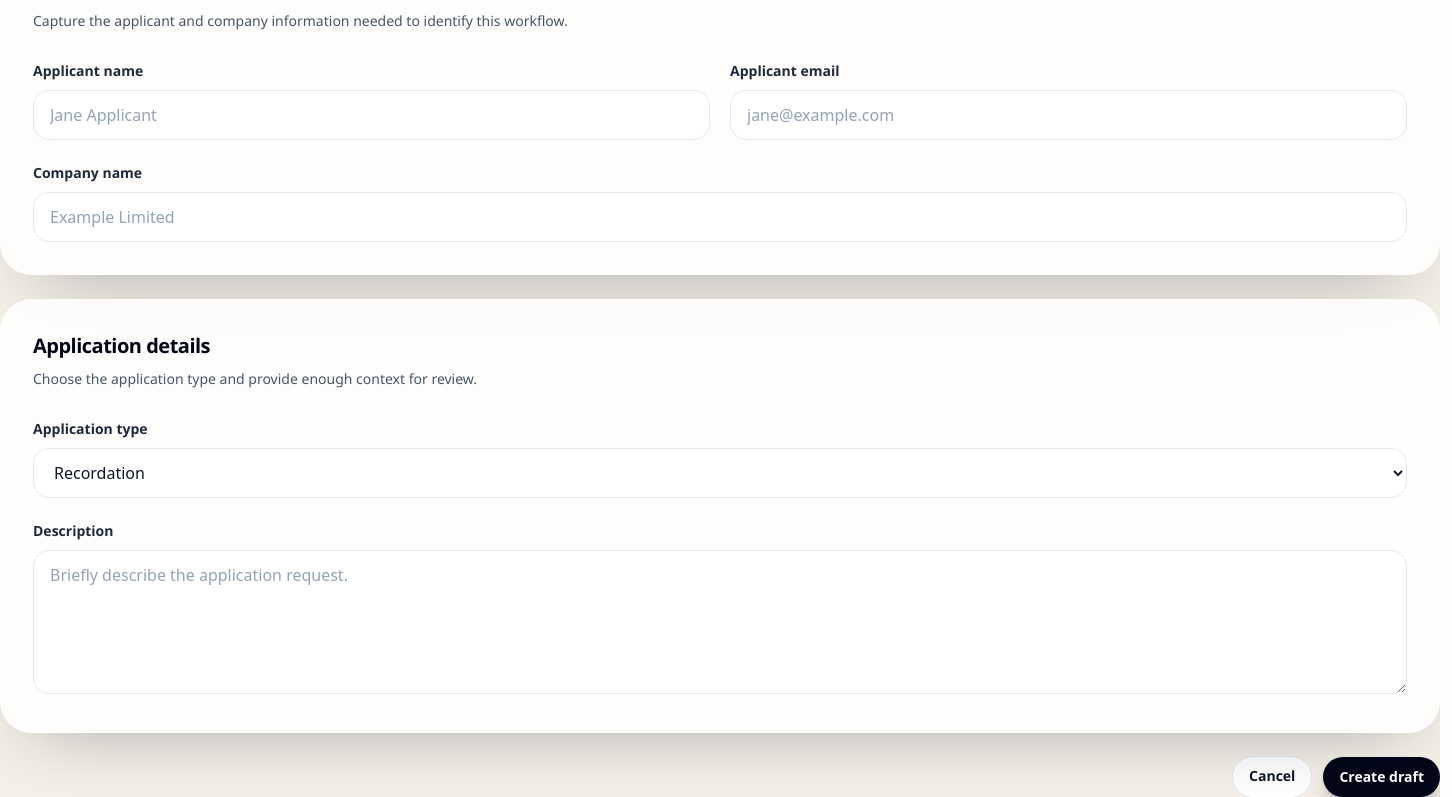
Test: ApplicationForm › shows validation messages for required create and edit fields
(page scrolled)
Click the button "Create draft".
click(1382, 777)  # box x1=1323 y1=757 x2=1440 y2=796
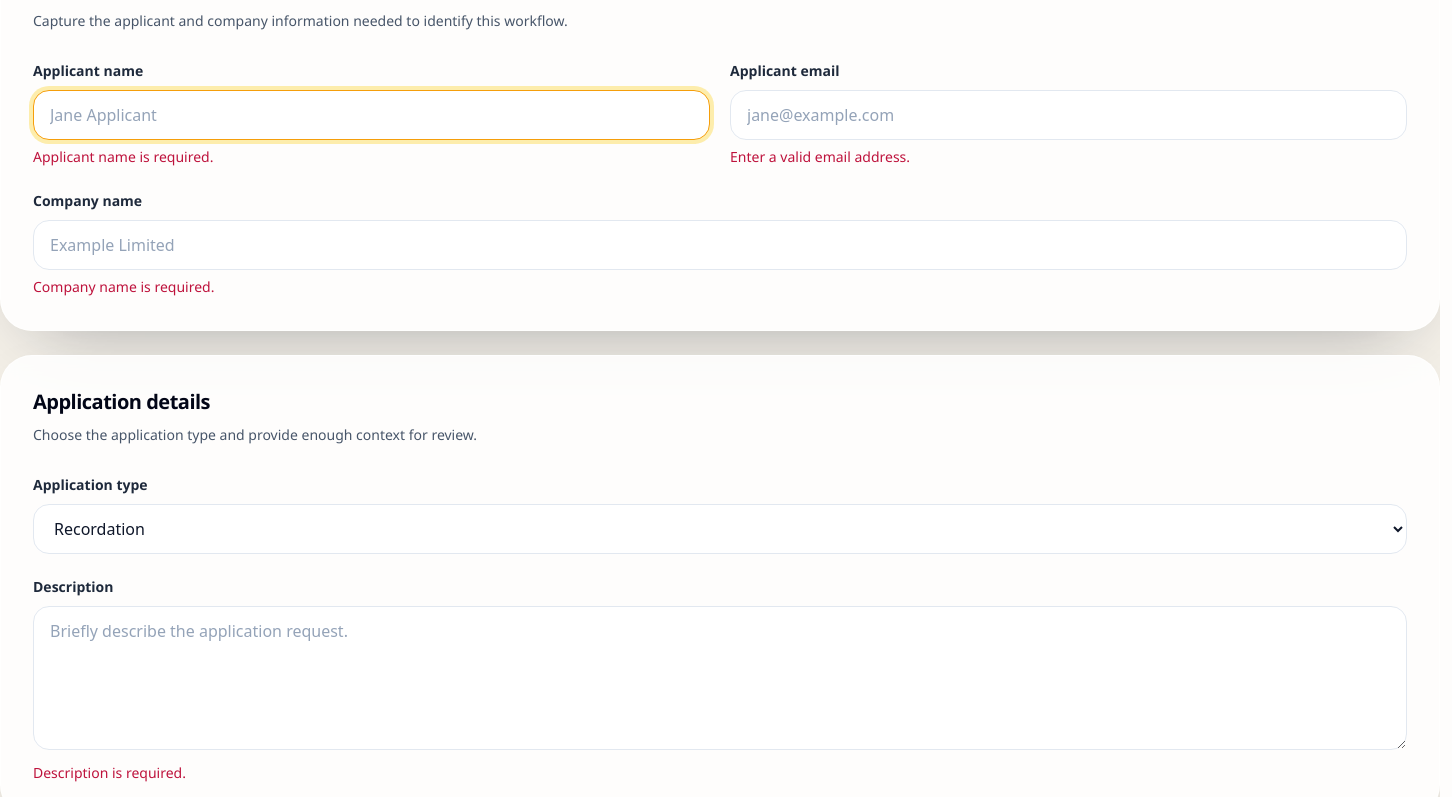
Result: the text "Applicant name is required." is shown at x1=33 y1=148 x2=213 y2=167
Result: the text "Company name is required." is shown at x1=33 y1=278 x2=214 y2=297
Result: the text "Description is required." is shown at x1=33 y1=764 x2=186 y2=783
